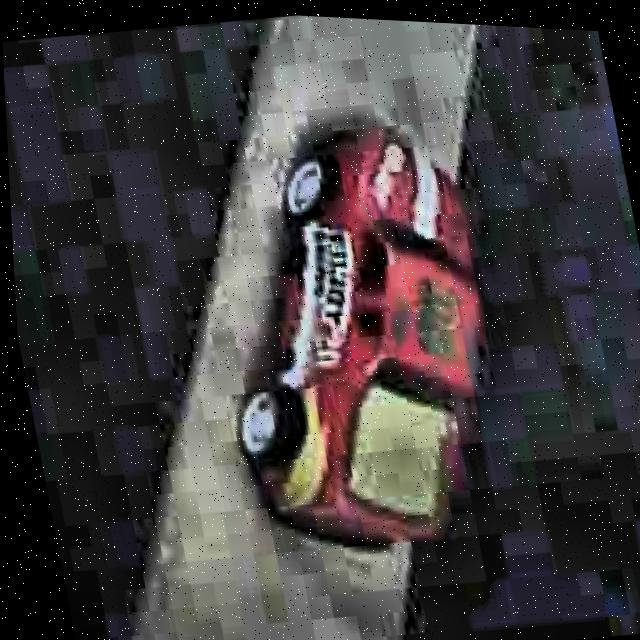car: (172, 102, 540, 581)
